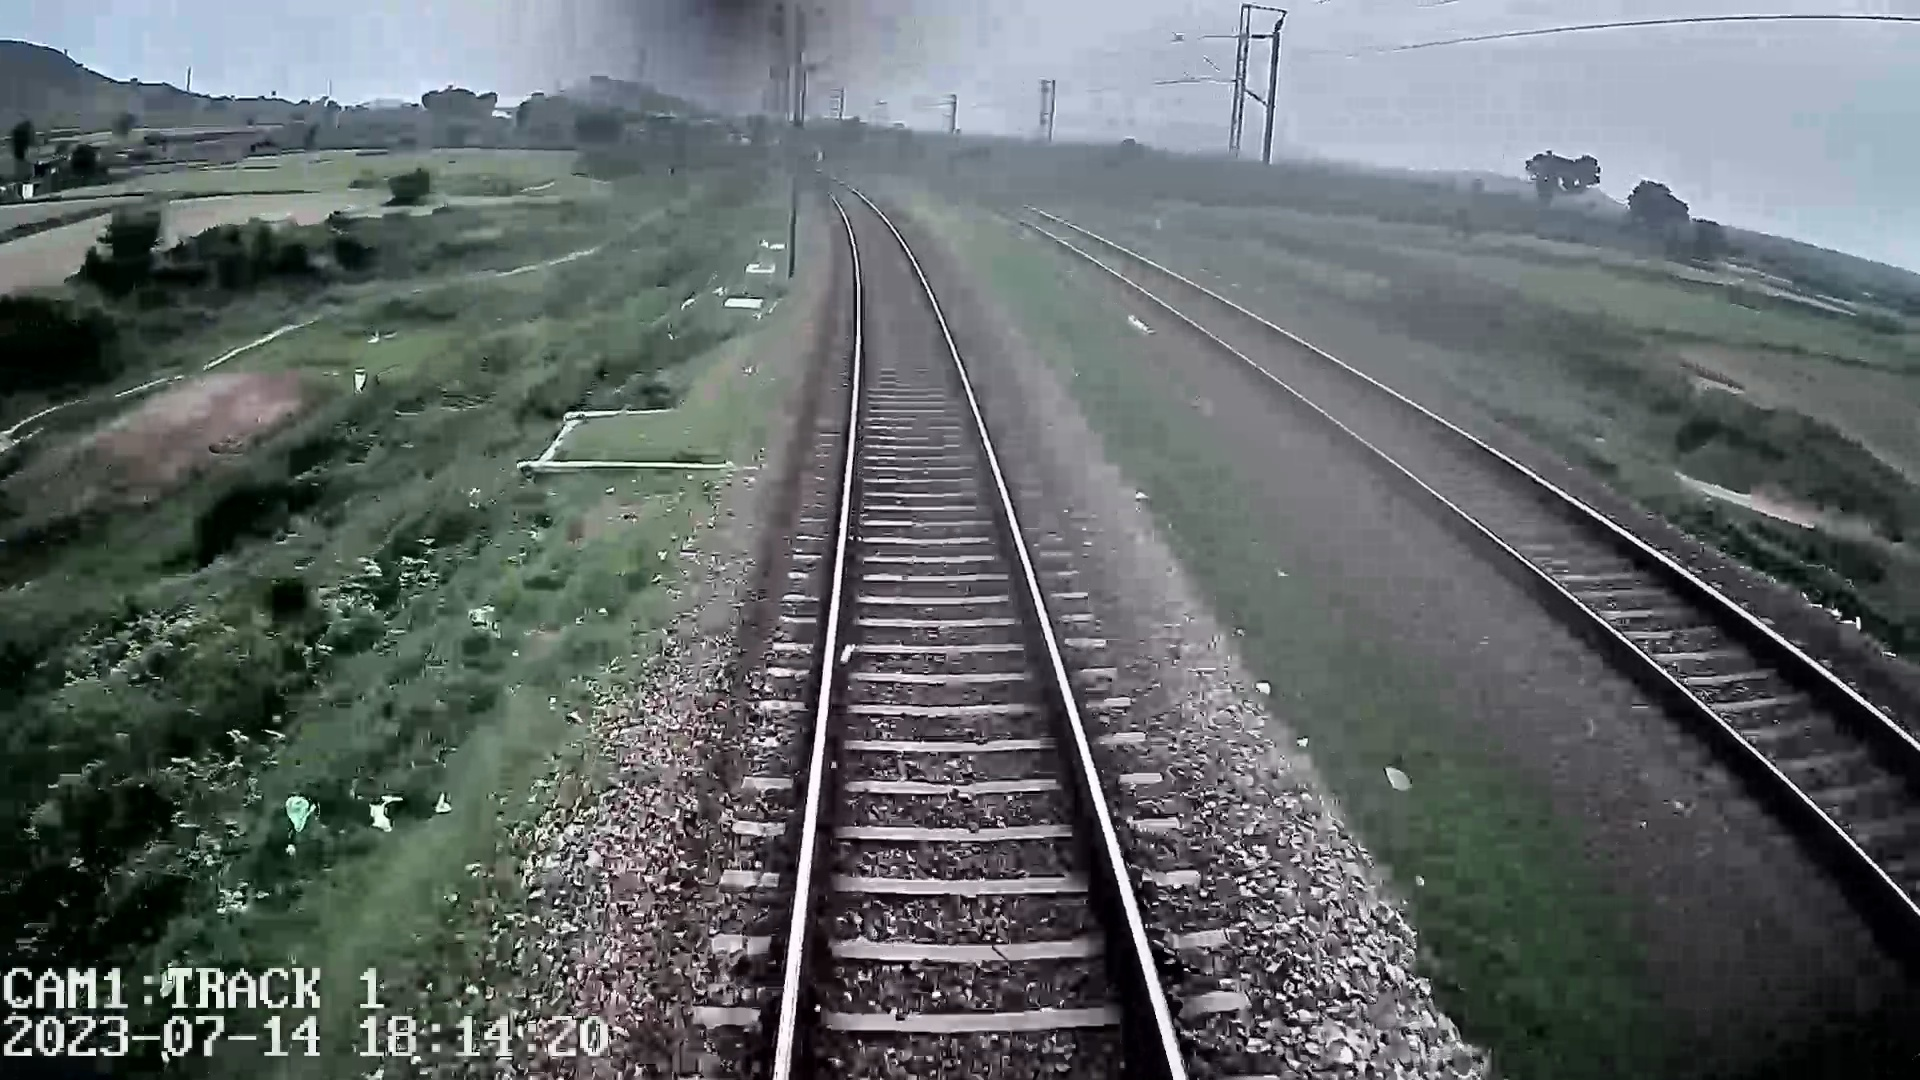track1: (783, 203, 1174, 1052)
track2: (1056, 232, 1908, 865)
